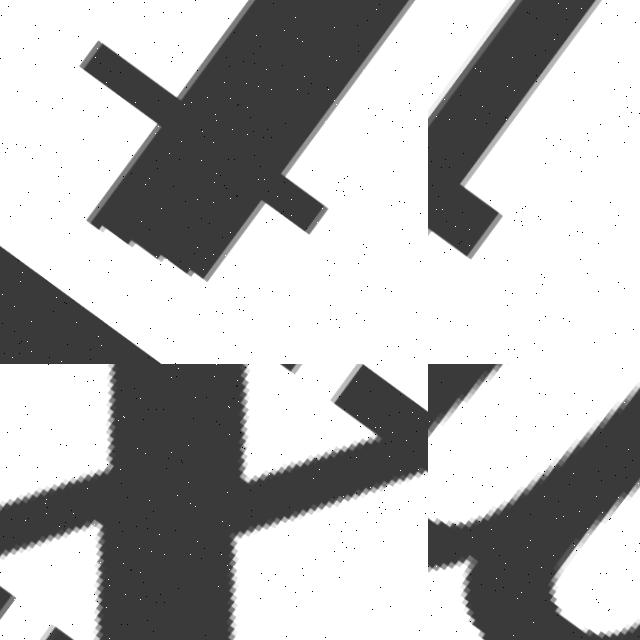M: (428, 364, 640, 640)
T: (0, 0, 428, 356), (428, 0, 640, 364)
X: (0, 364, 428, 640)
